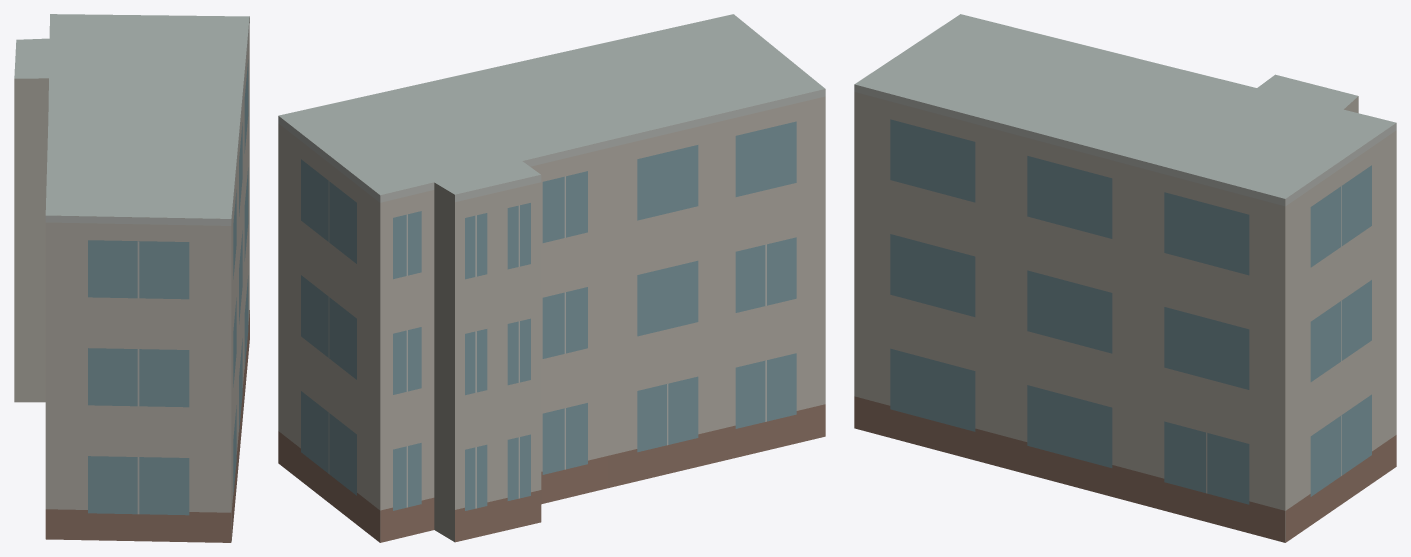
File: survey-upis-32481959.glb
3 renders of one model, left to right at view 1: azimuth 30°, elevation 25°; view 2: azimuth 150°, elevation 25°; view 3: azimuth 270°, elevation 25°, orthographic. The views are drawn at different scales.
Parts seen in each view (by area): view 1: survey-upis-32481959.tmp; view 2: survey-upis-32481959.tmp; view 3: survey-upis-32481959.tmp.
Part boxes in pixels (box(x1,y1,x2,y2)): survey-upis-32481959.tmp: box(14, 14, 249, 542); survey-upis-32481959.tmp: box(278, 14, 825, 542); survey-upis-32481959.tmp: box(854, 14, 1396, 542).
Bounding box in the file's own units: 12.99 × 11.25 × 16.09.
